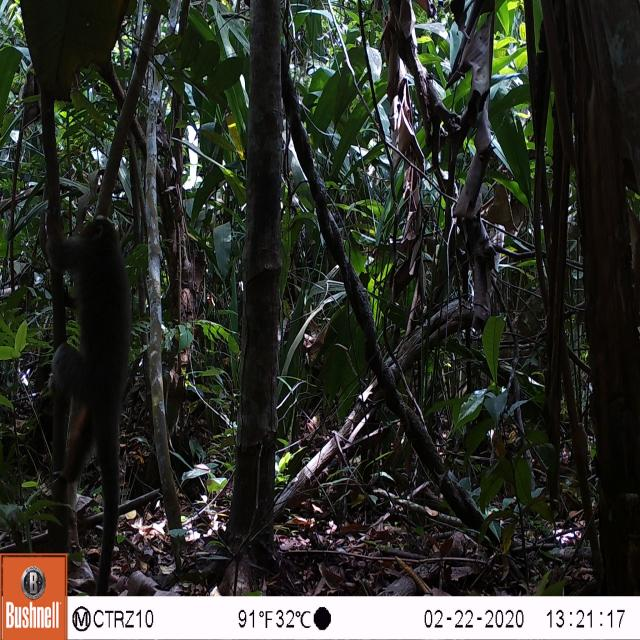Margarita Island Capuchin: (37, 205, 135, 590)
